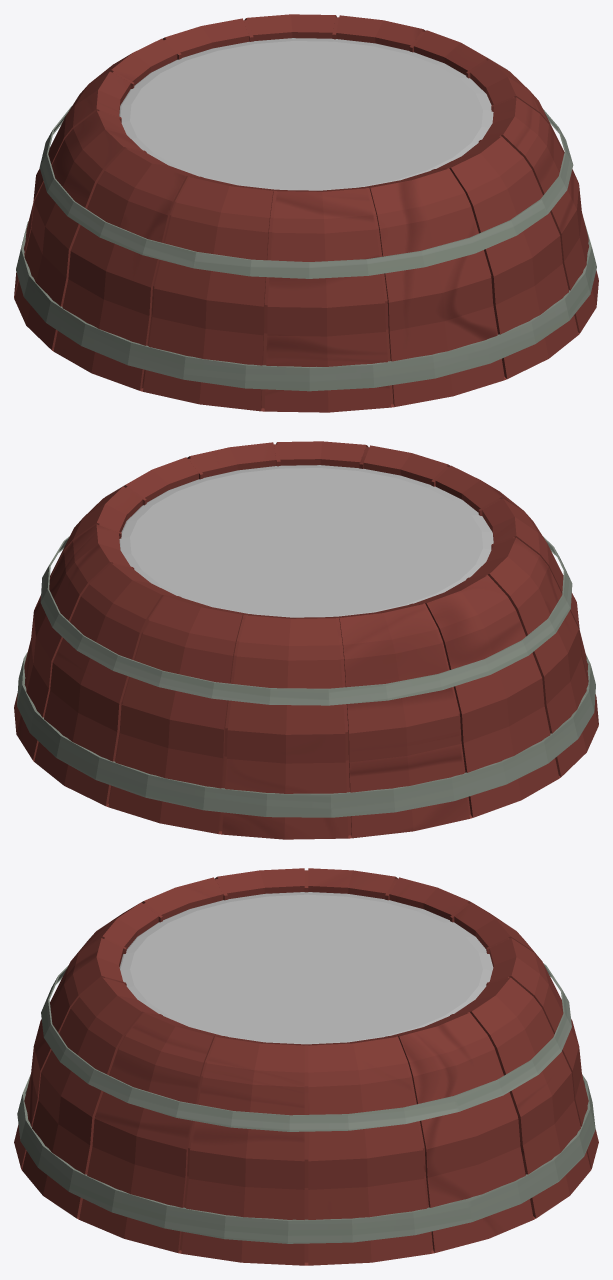
Rendered from masaalt.fbx.
3 views of the same model, one above another, from view 1: azimuth 30°, elevation 25°; view 2: azimuth 150°, elevation 25°; view 3: azimuth 270°, elevation 25° (orthographic).
Parts seen in each view (by area): view 1: altvaril; view 2: altvaril; view 3: altvaril.
Boxes of the visible parts, <box> form: altvaril: <box>14,14,598,412</box>; altvaril: <box>14,441,598,839</box>; altvaril: <box>14,868,598,1265</box>.
Size of the model in its own units: 1945 by 680 by 1946.
